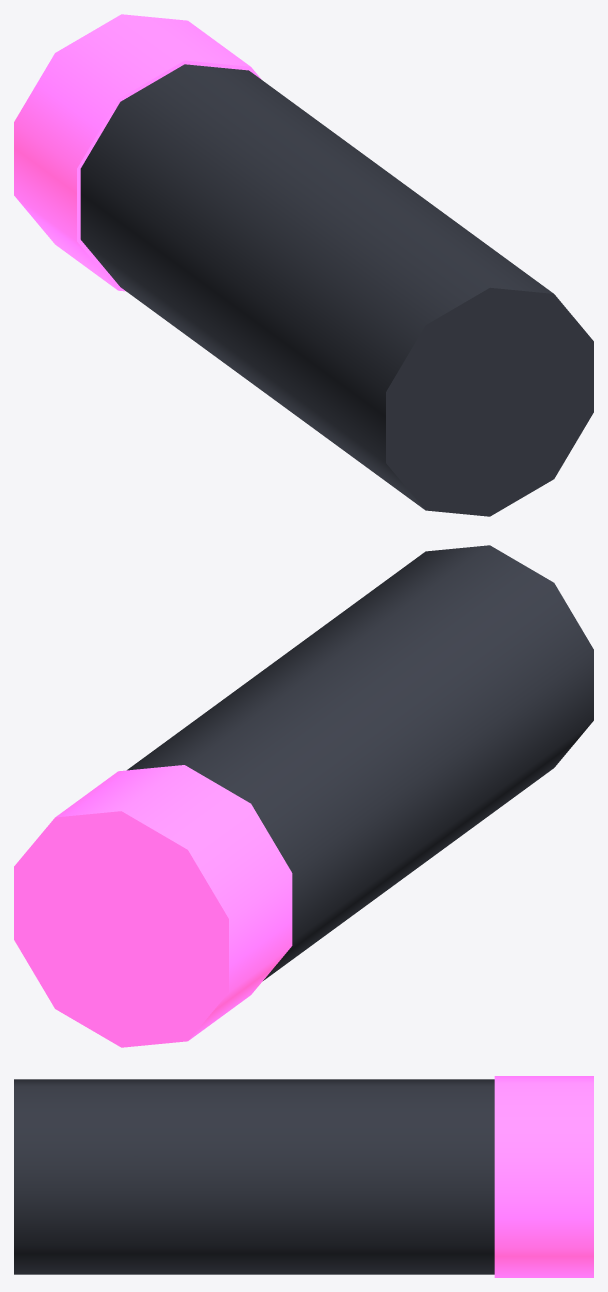
Rendered from boombox_launcher.glb.
3 renders of one model, top to bottom at view 1: azimuth 30°, elevation 25°; view 2: azimuth 150°, elevation 25°; view 3: azimuth 270°, elevation 25°, orthographic. The views are drawn at different scales.
Parts seen in each view (by area): view 1: _MeshInstance3D_4466, _MeshInstance3D_4467; view 2: _MeshInstance3D_4466, _MeshInstance3D_4467; view 3: _MeshInstance3D_4466, _MeshInstance3D_4467.
Boxes of the visible parts, <box> form: _MeshInstance3D_4466: <box>80,64,593,516</box>; _MeshInstance3D_4467: <box>14,14,261,291</box>; _MeshInstance3D_4466: <box>127,545,593,980</box>; _MeshInstance3D_4467: <box>14,765,292,1047</box>; _MeshInstance3D_4466: <box>14,1079,494,1274</box>; _MeshInstance3D_4467: <box>494,1076,593,1277</box>.
Size of the model in its own units: 0.059 by 0.062 by 0.175.
